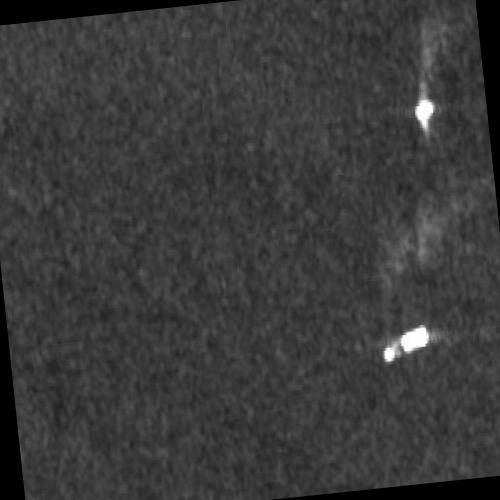ship: (381, 322, 430, 365), (414, 81, 434, 131)
